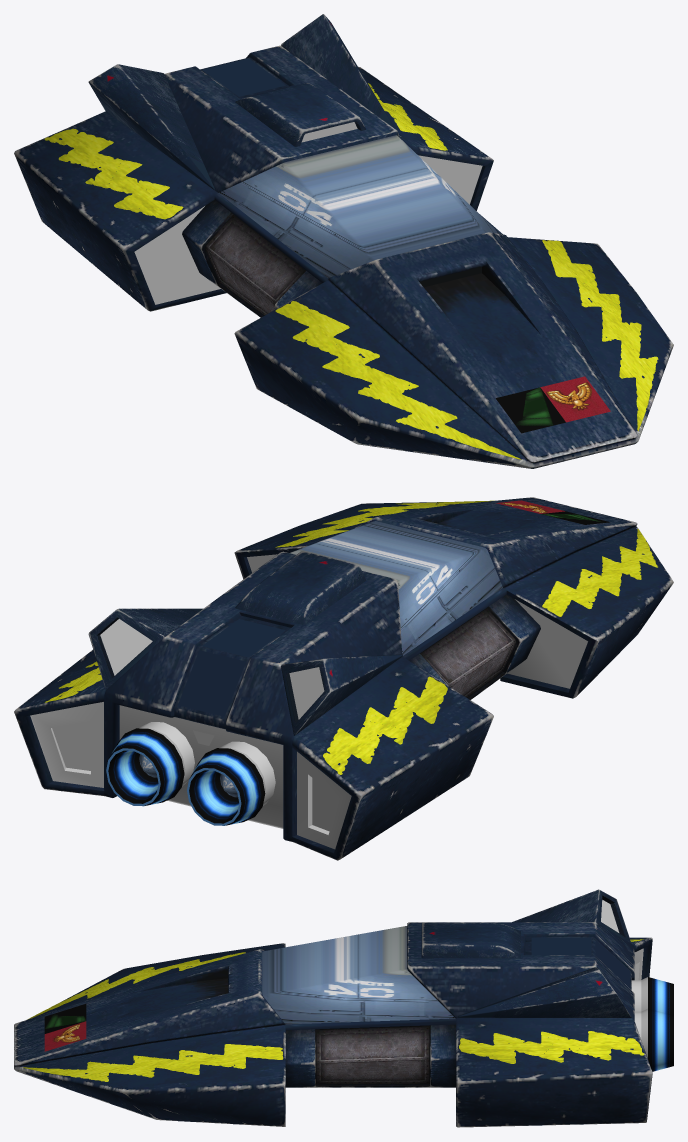
The model's file is nightThunder.obj.
The picture shows the model from 3 angles, top to bottom: view 1: azimuth 30°, elevation 25°; view 2: azimuth 150°, elevation 25°; view 3: azimuth 270°, elevation 25°; orthographic projection. The views are drawn at different scales.
Visible parts, largest first — view 1: 23_nightthunder_a_gxmat11.003, 23_nightthunder_a_gxmat1.005, 23_nightthunder_a_gxmat24.002, 23_nightthunder_a_gxmat15.004, 23_nightthunder_a_gxmat18.002, 23_nightthunder_a_gxmat10.002, 23_nightthunder_a_gxmat6.005, 23_nightthunder_a_gxmat7.004, 23_nightthunder_a_gxmat13.004; view 2: 23_nightthunder_a_gxmat11.003, 23_nightthunder_a_gxmat15.004, 23_nightthunder_a_gxmat1.005, 23_nightthunder_a_gxmat8.003, 23_nightthunder_a_gxmat24.002, 23_nightthunder_a_gxmat21.002, 23_nightthunder_a_gxmat18.002, 23_nightthunder_a_gxmat17.004, 23_nightthunder_a_gxmat13.004, 23_nightthunder_a_gxmat10.002, 23_nightthunder_a_gxmat23.001; view 3: 23_nightthunder_a_gxmat11.003, 23_nightthunder_a_gxmat1.005, 23_nightthunder_a_gxmat15.004, 23_nightthunder_a_gxmat18.002, 23_nightthunder_a_gxmat24.002, 23_nightthunder_a_gxmat21.002, 23_nightthunder_a_gxmat13.004, 23_nightthunder_a_gxmat23.001, 23_nightthunder_a_gxmat6.005, 23_nightthunder_a_gxmat7.004.
Boxes of the visible parts, x1=… form: 23_nightthunder_a_gxmat11.003: x1=14, y1=45, x2=673, y2=468; 23_nightthunder_a_gxmat1.005: x1=219, y1=135, x2=499, y2=278; 23_nightthunder_a_gxmat24.002: x1=44, y1=83, x2=658, y2=459; 23_nightthunder_a_gxmat15.004: x1=88, y1=14, x2=401, y2=190; 23_nightthunder_a_gxmat18.002: x1=182, y1=199, x2=321, y2=317; 23_nightthunder_a_gxmat10.002: x1=134, y1=155, x2=482, y2=304; 23_nightthunder_a_gxmat6.005: x1=540, y1=376, x2=610, y2=422; 23_nightthunder_a_gxmat7.004: x1=495, y1=387, x2=565, y2=433; 23_nightthunder_a_gxmat13.004: x1=202, y1=58, x2=285, y2=96; 23_nightthunder_a_gxmat11.003: x1=14, y1=497, x2=673, y2=860; 23_nightthunder_a_gxmat15.004: x1=88, y1=551, x2=402, y2=735; 23_nightthunder_a_gxmat1.005: x1=290, y1=521, x2=502, y2=655; 23_nightthunder_a_gxmat8.003: x1=30, y1=702, x2=351, y2=849; 23_nightthunder_a_gxmat24.002: x1=45, y1=500, x2=657, y2=774; 23_nightthunder_a_gxmat21.002: x1=106, y1=728, x2=265, y2=825; 23_nightthunder_a_gxmat18.002: x1=409, y1=594, x2=540, y2=699; 23_nightthunder_a_gxmat17.004: x1=52, y1=619, x2=339, y2=831; 23_nightthunder_a_gxmat13.004: x1=178, y1=619, x2=285, y2=716; 23_nightthunder_a_gxmat10.002: x1=247, y1=554, x2=587, y2=688; 23_nightthunder_a_gxmat23.001: x1=139, y1=722, x2=275, y2=805; 23_nightthunder_a_gxmat11.003: x1=14, y1=922, x2=652, y2=1127; 23_nightthunder_a_gxmat1.005: x1=262, y1=926, x2=455, y2=1024; 23_nightthunder_a_gxmat15.004: x1=421, y1=889, x2=631, y2=1017; 23_nightthunder_a_gxmat18.002: x1=285, y1=1024, x2=455, y2=1087; 23_nightthunder_a_gxmat24.002: x1=23, y1=939, x2=644, y2=1081; 23_nightthunder_a_gxmat21.002: x1=648, y1=977, x2=673, y2=1071; 23_nightthunder_a_gxmat13.004: x1=531, y1=937, x2=629, y2=988; 23_nightthunder_a_gxmat23.001: x1=631, y1=977, x2=647, y2=1058; 23_nightthunder_a_gxmat6.005: x1=44, y1=1021, x2=86, y2=1051; 23_nightthunder_a_gxmat7.004: x1=44, y1=1004, x2=86, y2=1033.
Bounding box in the file's own units: 2.38 × 1.04 × 4.57.
